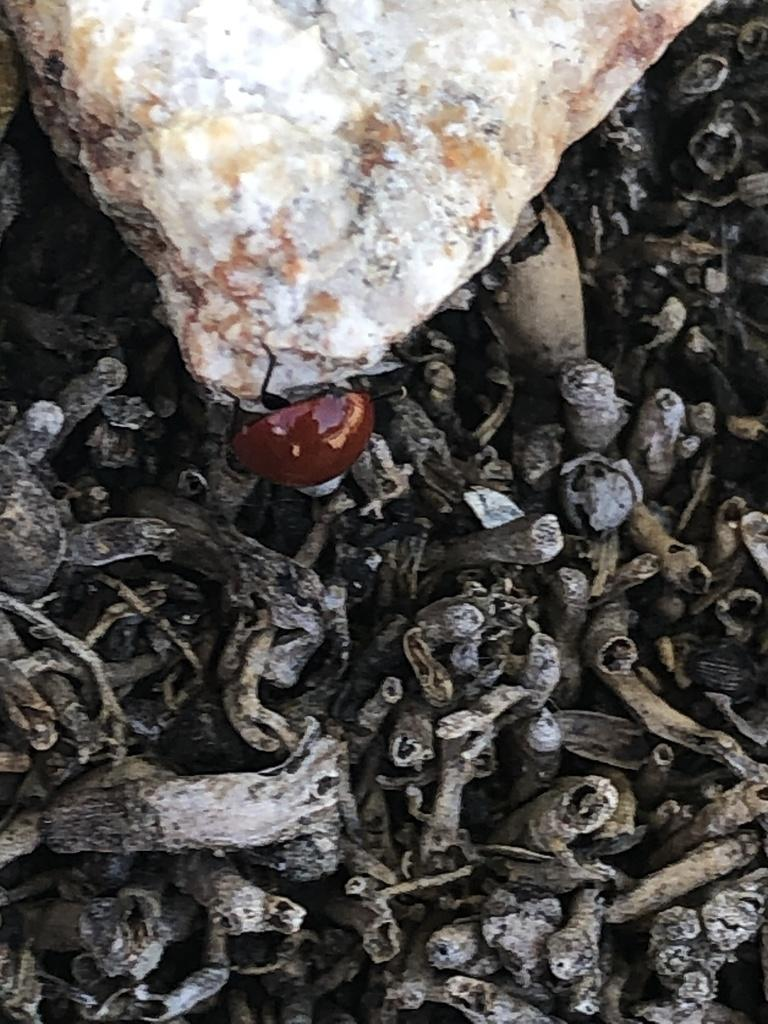ladybug: (219, 337, 379, 492)
